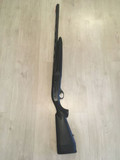weapon: (51, 1, 79, 154)
